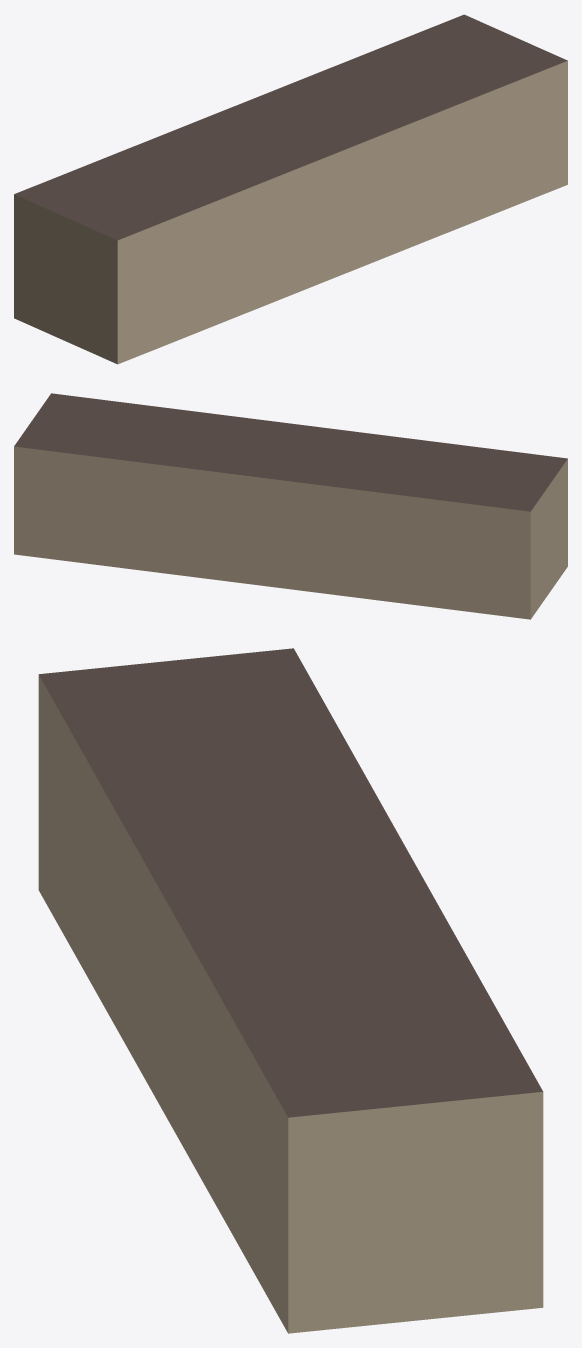
The picture shows the model from 3 angles, top to bottom: view 1: azimuth 30°, elevation 25°; view 2: azimuth 150°, elevation 25°; view 3: azimuth 270°, elevation 25°; orthographic projection. The views are drawn at different scales.
Visible parts, largest first — view 1: HP-w372180450; view 2: HP-w372180450; view 3: HP-w372180450.
Part boxes in pixels (x1,y1,x2,y2): HP-w372180450: (14, 14, 567, 364); HP-w372180450: (14, 393, 567, 619); HP-w372180450: (38, 648, 543, 1333).
Size of the model in its own units: 41.94 by 9 by 19.06.
